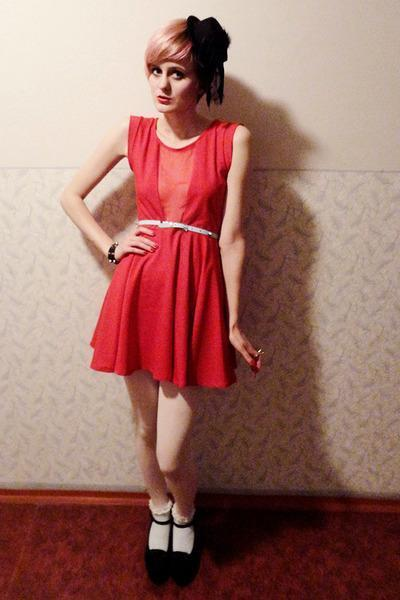dress: (90, 116, 245, 402)
shoe: (145, 552, 199, 588)
